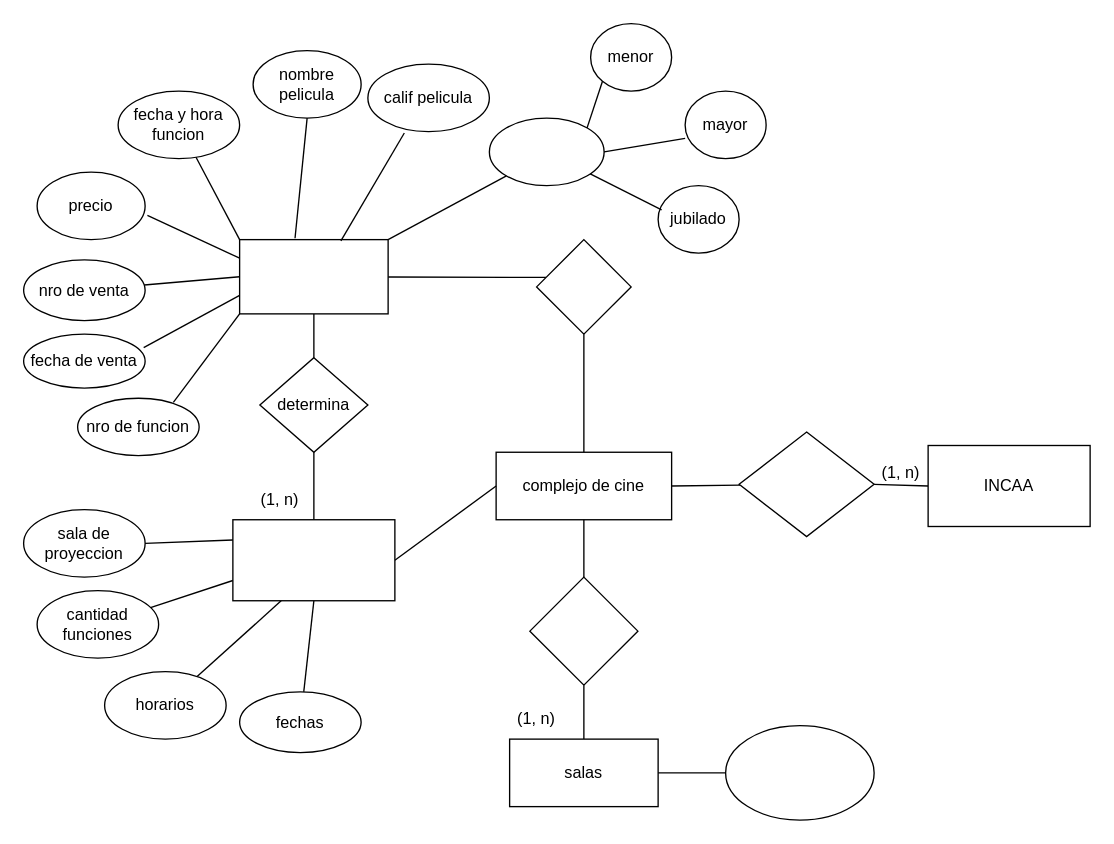
This 1114x844 diagram has some shape labels left out. The shapes that lost their labels are listed below. From the top down, each one's centre as x and y in pixels, then its label:
At point 546,151: "tipo entrada".
At point 313,276: "entradas".
At point 583,286: "vende".
At point 806,484: "envia peliculas".
At point 313,559: "programacion".
At point 583,630: "tiene".
At point 799,772: "capacidad".
